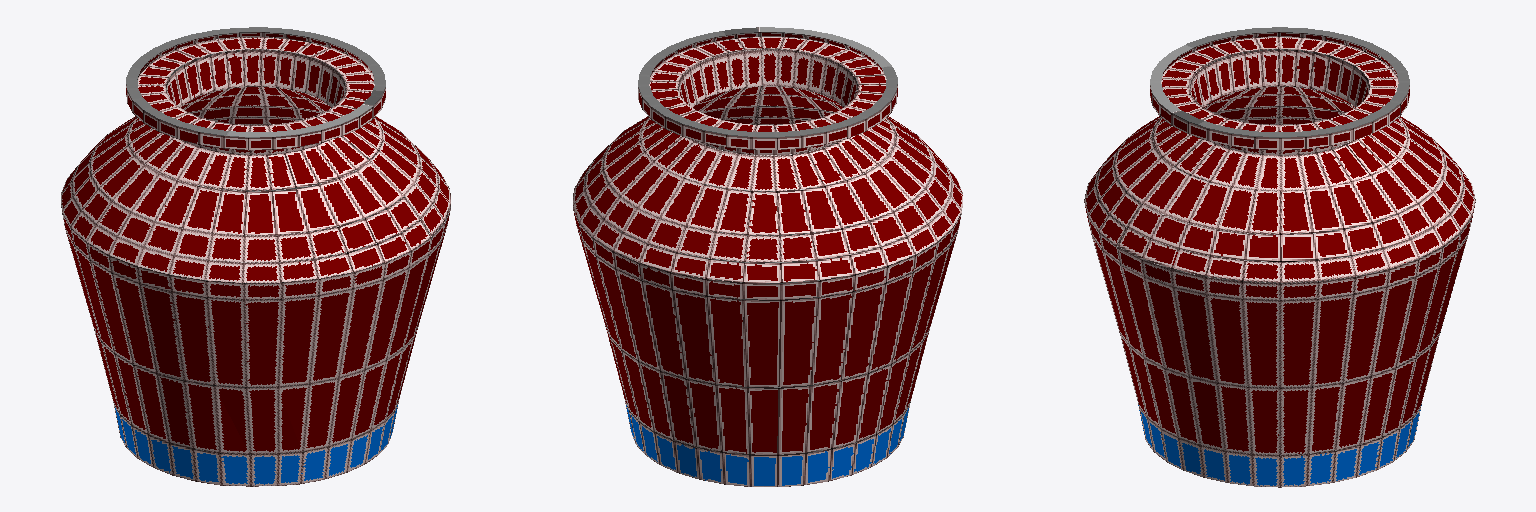
The picture shows the model from 3 angles: view 1: azimuth 30°, elevation 25°; view 2: azimuth 150°, elevation 25°; view 3: azimuth 270°, elevation 25°; orthographic projection.
Visible parts, largest first — view 1: Circle; view 2: Circle; view 3: Circle.
Part boxes in pixels (x1,y1,x2,y2): Circle: (61,27,450,486); Circle: (573,27,962,486); Circle: (1084,27,1475,487).
Bounding box in the file's own units: 2.86 × 2.8 × 2.86.
Materials: 1 (1 with a texture image).